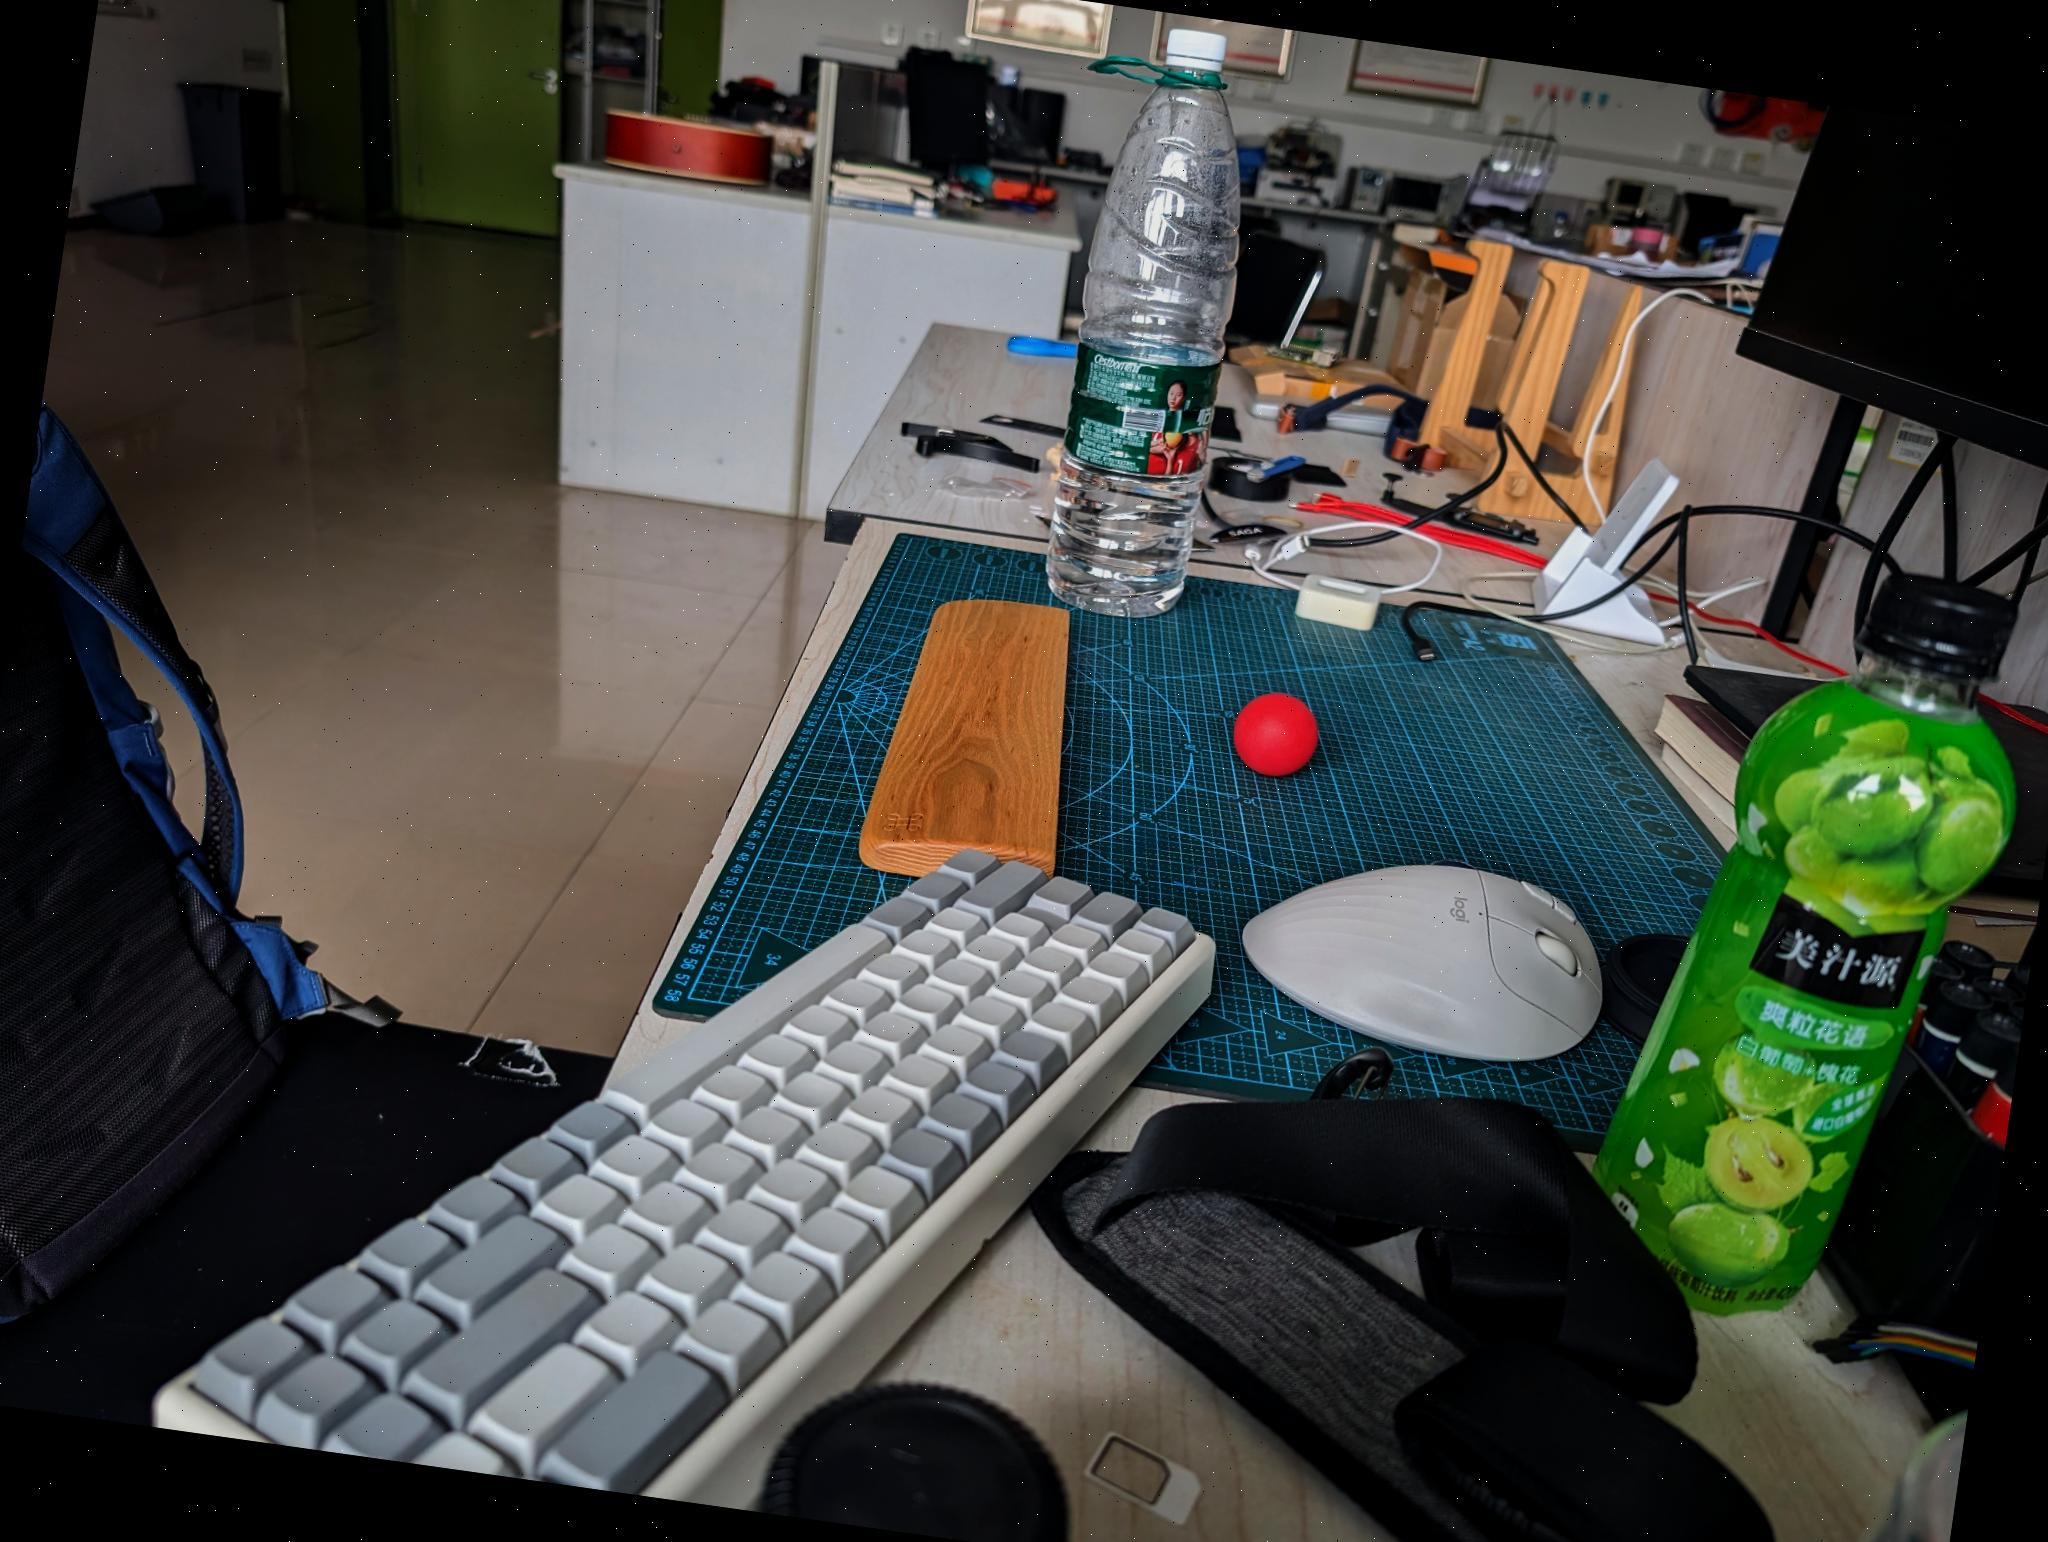ball: (1232, 684, 1320, 788)
